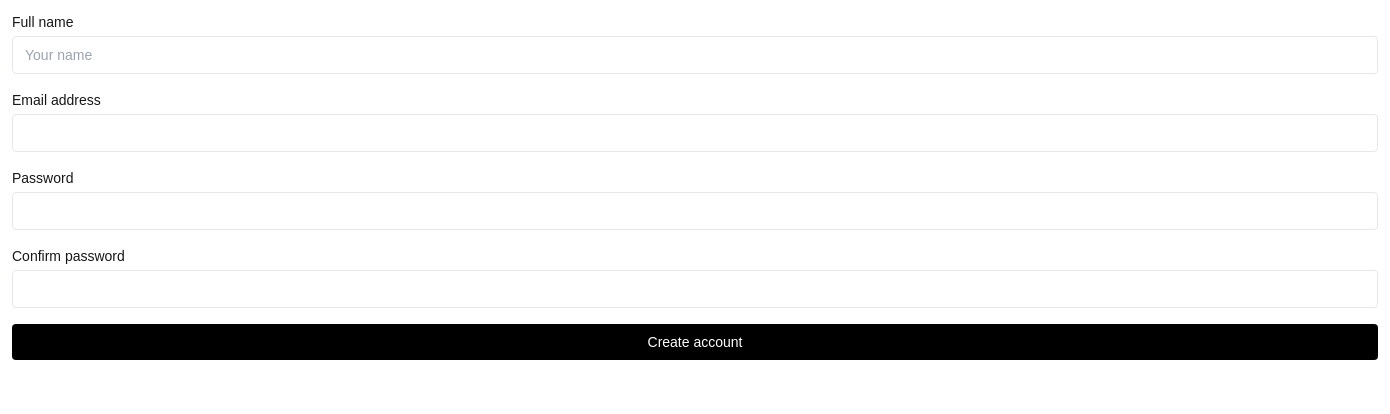
RegisterForm › Validation › shows error when password lacks character variety
Type "Pete" into the field labelled "Full name" at {"x": 695, "y": 55}, box [12,36,1378,74]
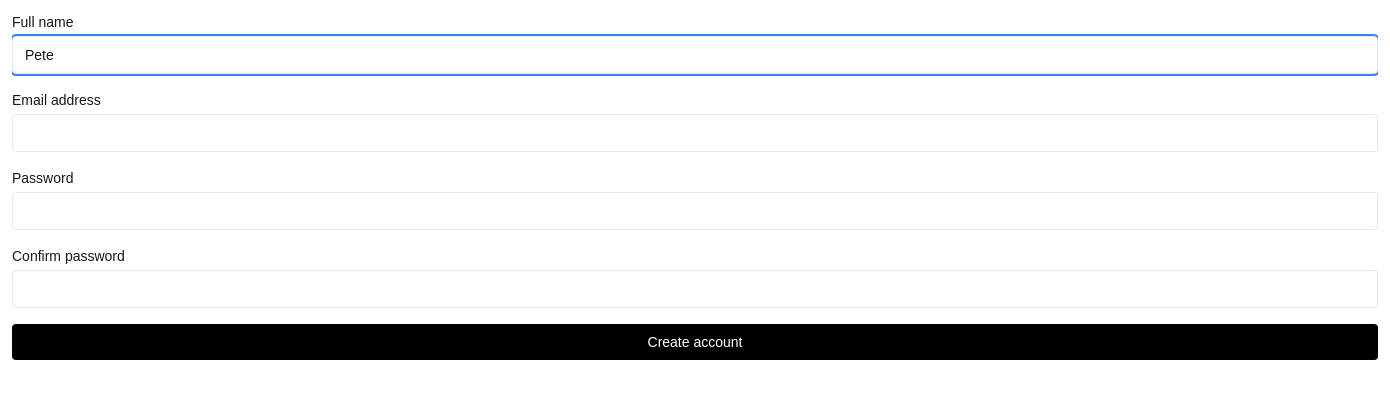
Type "a@b.com" into the field labelled "Email address" at {"x": 695, "y": 133}, box [12,114,1378,152]
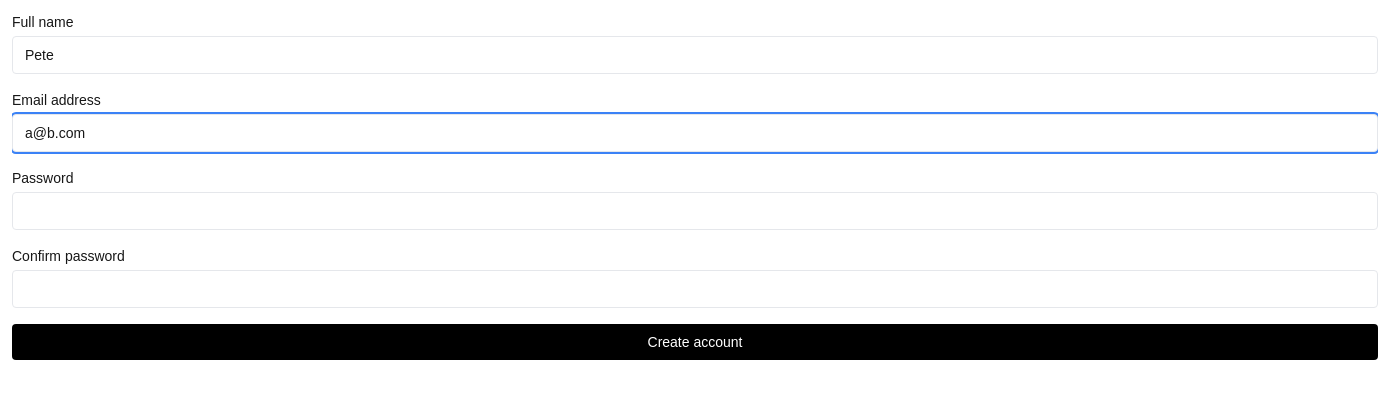
Type "password123" into the password field labelled "Password" at {"x": 695, "y": 211}, box [12,192,1378,230]
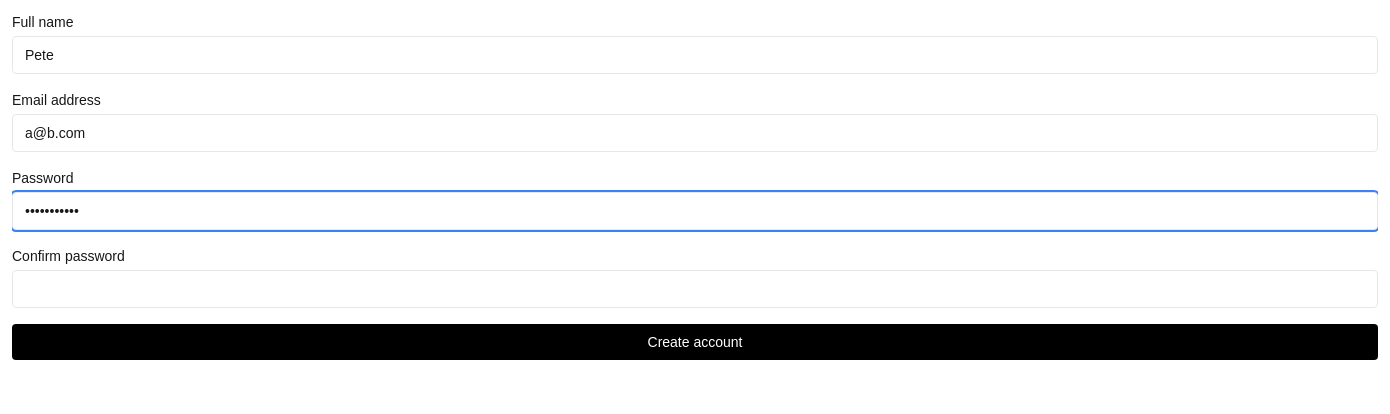
Type "password123" into the password field labelled "Confirm password" at {"x": 695, "y": 289}, box [12,270,1378,308]
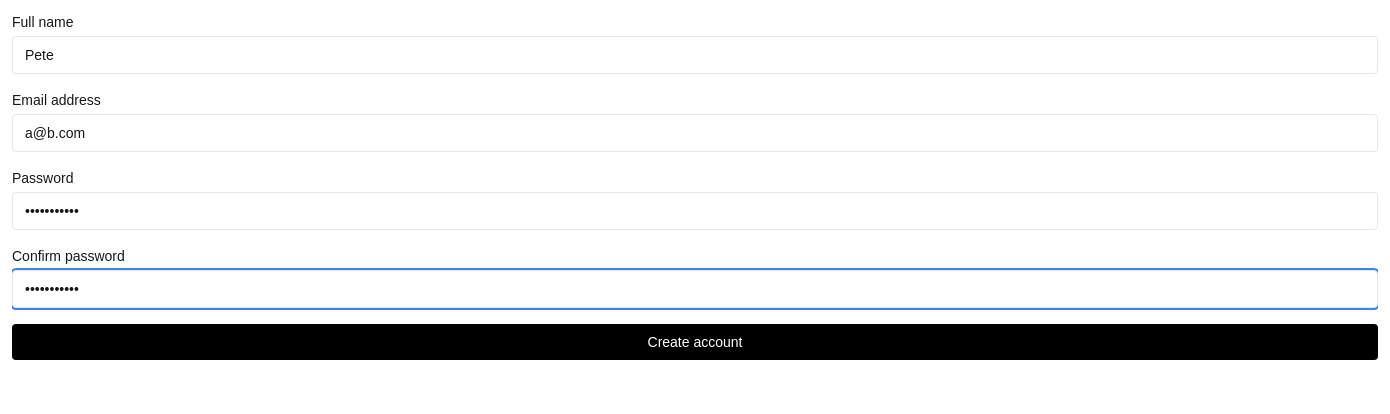
Click the button "Create account" at {"x": 695, "y": 342}, box [12,324,1378,360]
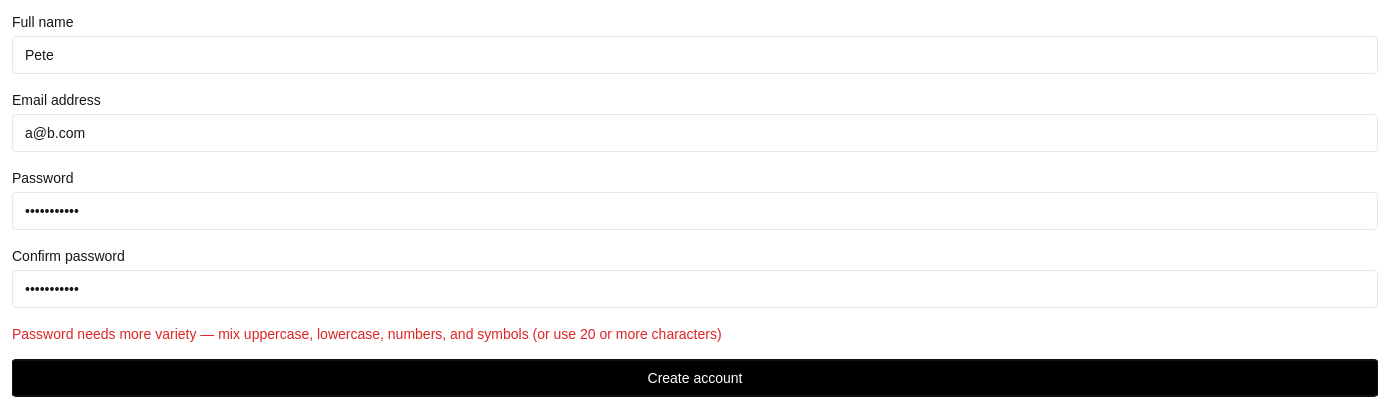
Now the text "needs more variety" is shown, box [12,326,722,342]
